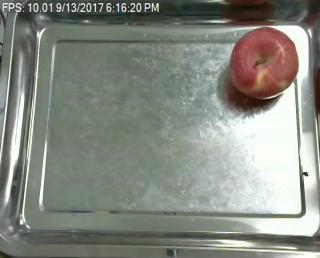apple: (230, 26, 299, 100)
